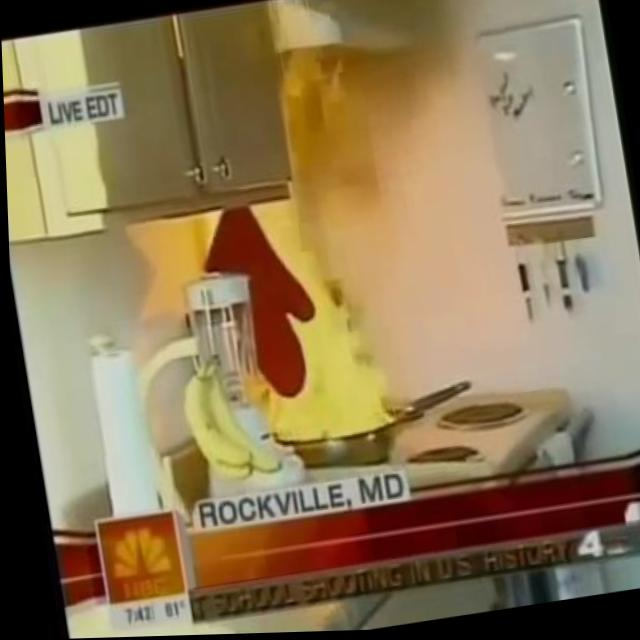fire: (231, 179, 395, 458)
